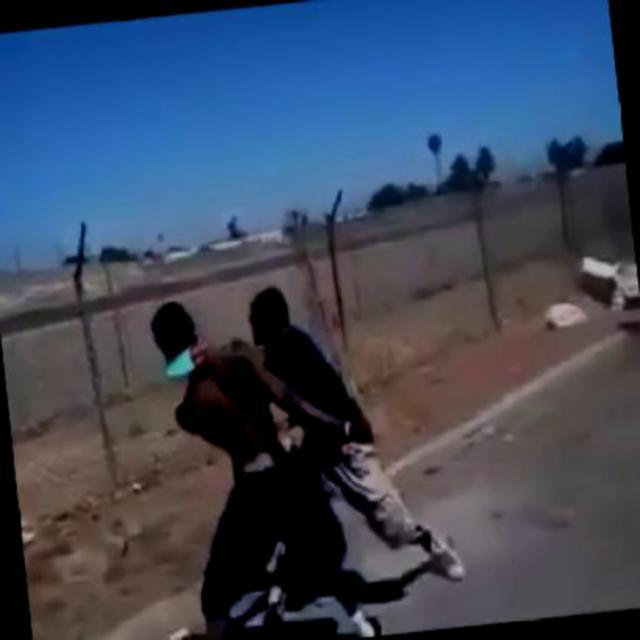fight: (146, 264, 469, 638)
